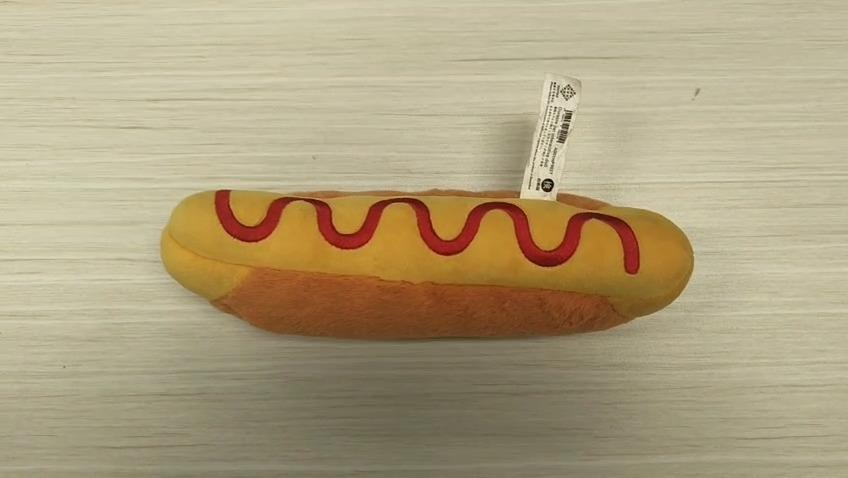hotdog: (159, 186, 695, 341)
